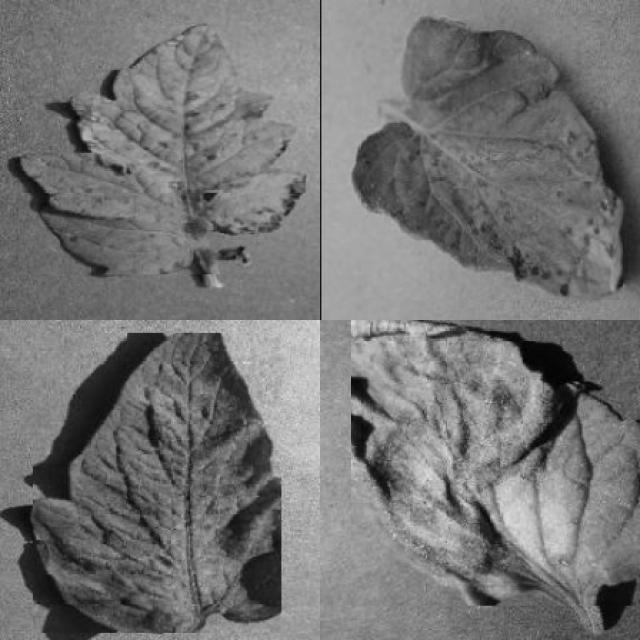Late Blight: (350, 320, 640, 606)
Septoria: (351, 17, 623, 300), (18, 25, 306, 275)
Spider Mites: (34, 333, 282, 633)
